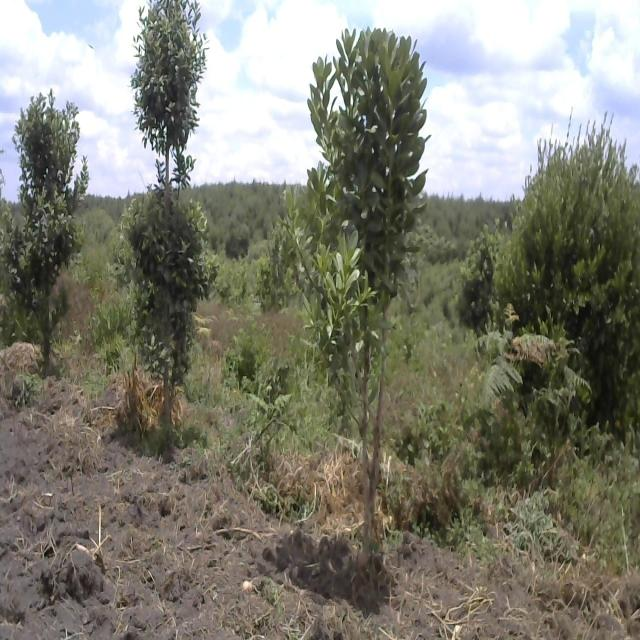Vitex keniensis: (500, 122, 640, 446)
